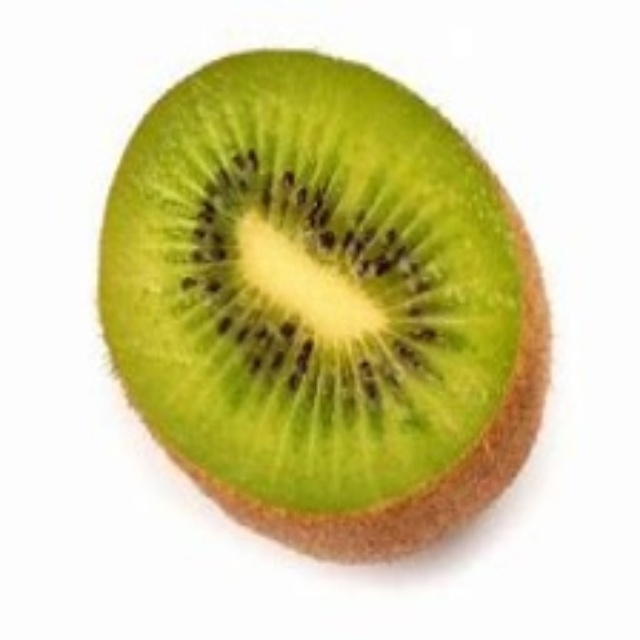kiwi: (99, 41, 567, 573)
